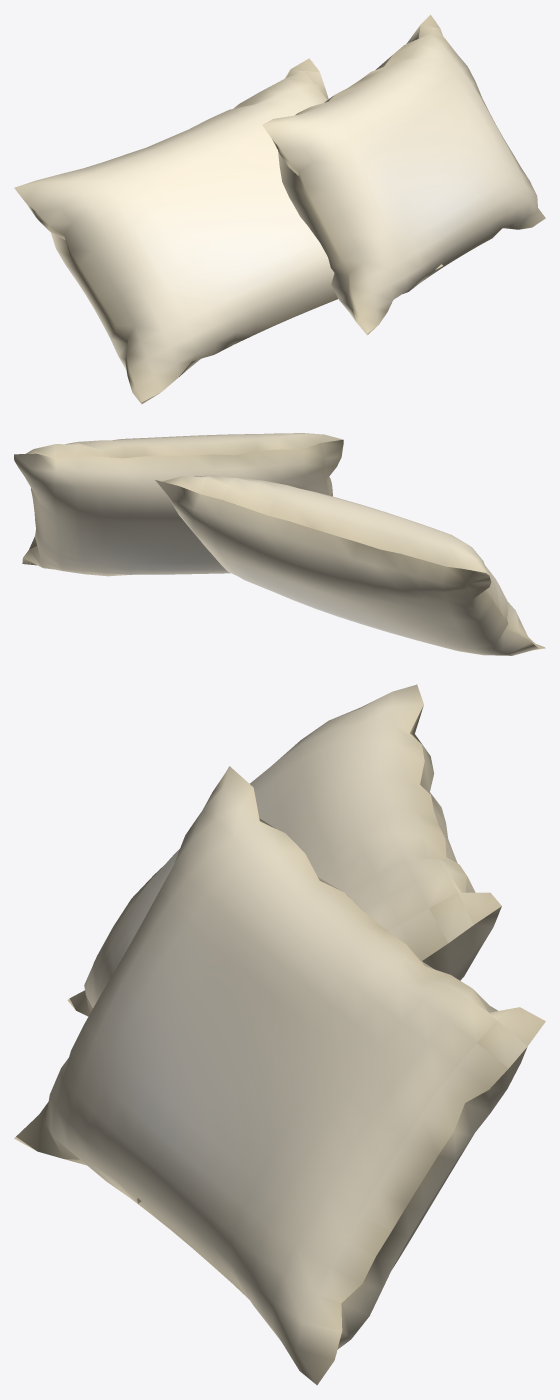
File: pillows.fbx
3 renders of one model, top to bottom at view 1: azimuth 30°, elevation 25°; view 2: azimuth 150°, elevation 25°; view 3: azimuth 270°, elevation 25°, orthographic. The views are drawn at different scales.
Visible parts, largest first — view 1: pillows; view 2: pillows; view 3: pillows.
Part boxes in pixels (left/top/right/bottom): pillows: left=14, top=14, right=545, bottom=404; pillows: left=14, top=433, right=545, bottom=655; pillows: left=14, top=684, right=545, bottom=1385.
Size of the model in its own units: 834 by 329 by 413.
